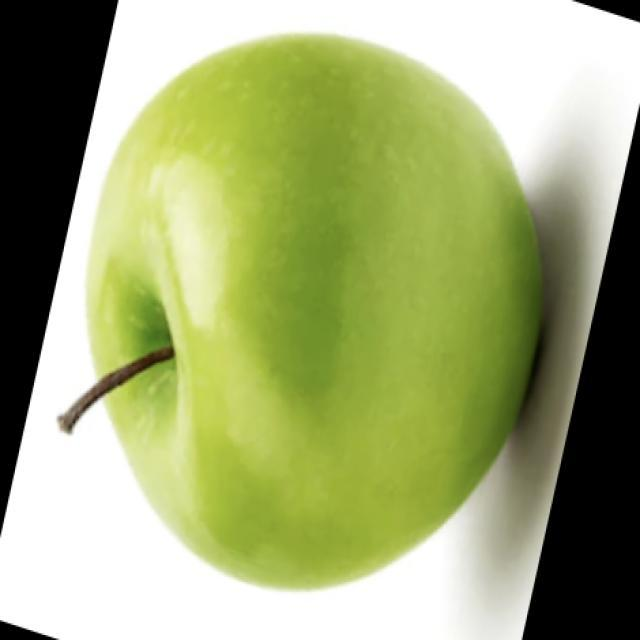Fresh Apple: (91, 45, 556, 577)
